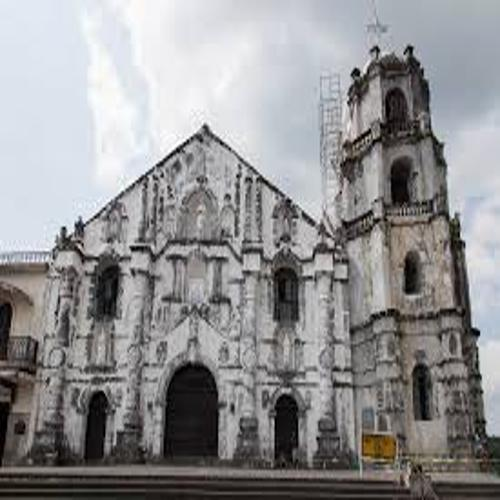Daraga Church: (42, 26, 491, 474)
